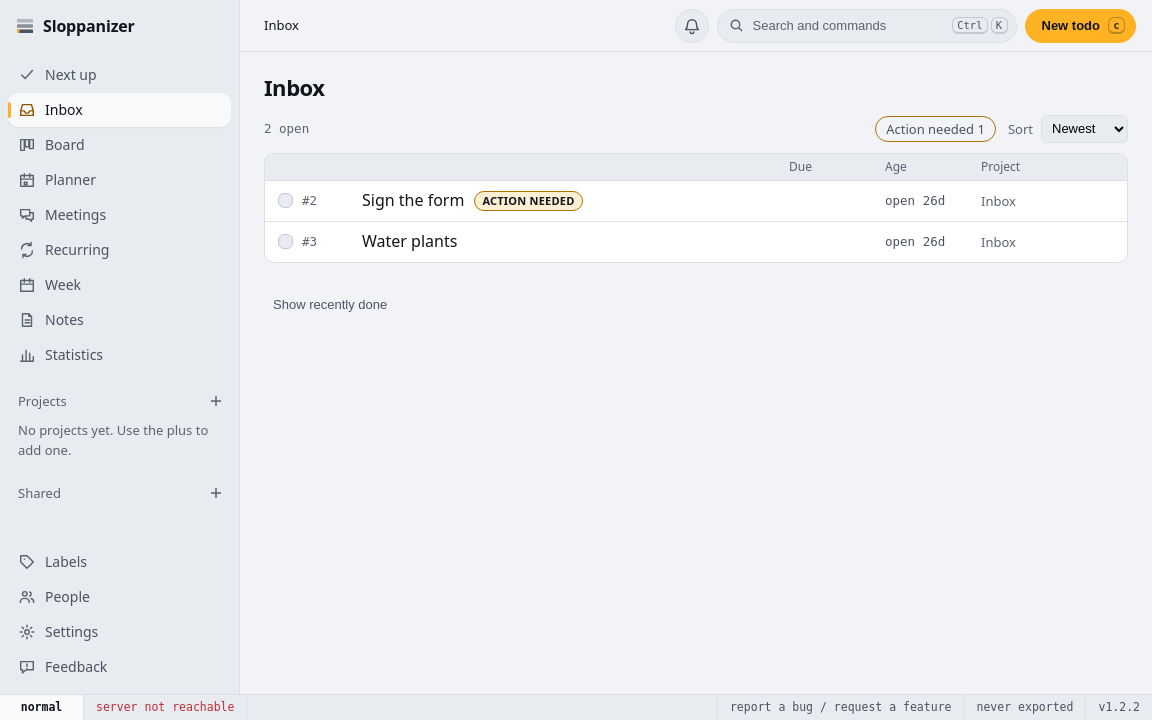
Test case: action needed filter in a list (S5#6) › offers the filter while something is marked and lists only those with it
Check: the link "Water plants" is shown, box [362,230,458,254]
Click the button "Action needed 1". click: {"x": 936, "y": 129}
box: [875,116,996,142]
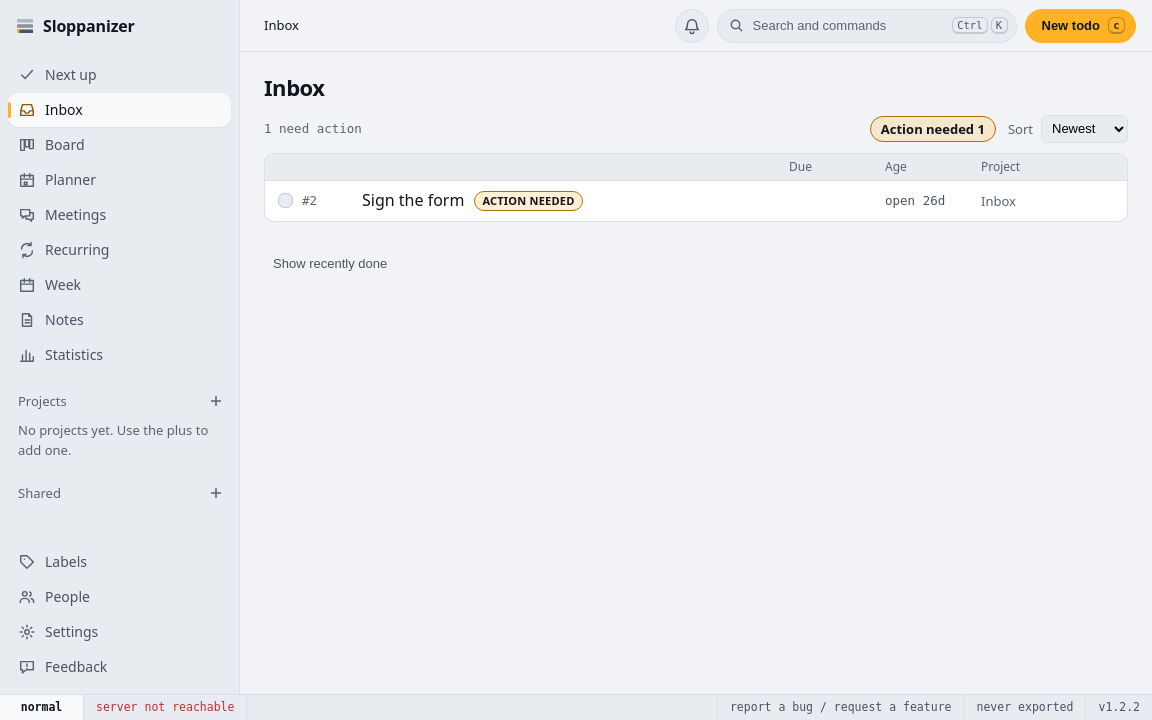
Check: the link "Water plants" is gone
